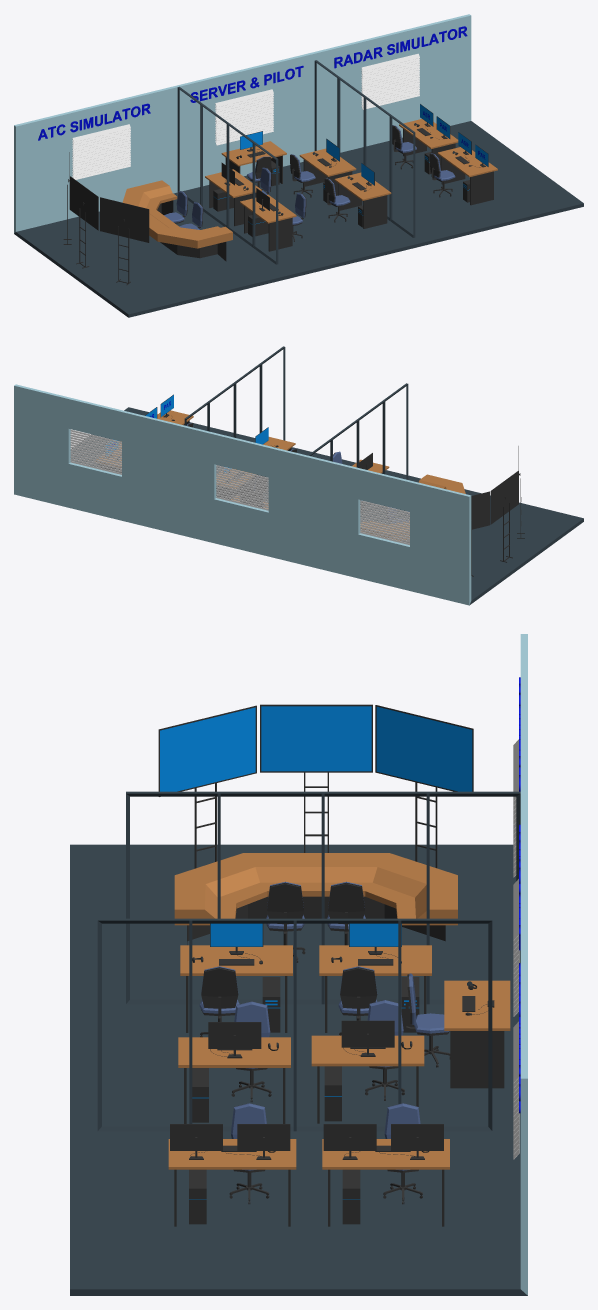
The model's file is room_layout.glb.
3 renders of one model, top to bottom at view 1: azimuth 30°, elevation 25°; view 2: azimuth 150°, elevation 25°; view 3: azimuth 270°, elevation 25°, orthographic. The views are drawn at different scales.
Parts seen in each view (by area): view 1: Room, Table (×5), Table.002, Table.001 (×2), Large TV.001 (×2), Window Rail, Window Rail.002, Window Rail.001, Wall Divider, Wall Divider.001, Plane.002 (×2), Chair (×2) (+4 smaller); view 2: Room, Window Rail.001, Window Rail.002, Window Rail, Large TV.001 (×2), Wall Divider.001, Wall Divider, Table.002; view 3: Room, Large TV.001 (×3), Table (×5), Table.002, Wall Divider.001, Chair (×5), Wall Divider, Monitor (×4), Table.001 (×2), Monitor.002 (×2), Monitor.001 (×2), CPU (×3) (+5 smaller).
Boxes of the visible parts, x1,y1,x2,y2 form: Room: (14,14,583,317); Table (×5): (205,141,391,251); Table.002: (122,180,232,261); Table.001 (×2): (399,119,497,205); Large TV.001 (×2): (70,176,149,242); Window Rail: (72,124,130,179); Window Rail.002: (361,53,419,109); Window Rail.001: (215,89,273,145); Wall Divider: (177,86,278,264); Wall Divider.001: (314,60,415,237); Plane.002 (×2): (392,125,455,197); Chair (×2): (290,154,350,222); Room: (14,384,583,605); Window Rail.001: (216,465,268,510); Window Rail.002: (70,429,121,474); Window Rail: (360,500,409,545); Large TV.001 (×2): (471,470,518,529); Wall Divider.001: (184,346,285,440); Wall Divider: (308,383,408,521); Table.002: (360,474,465,542); Room: (70,634,527,1295); Large TV.001 (×3): (158,704,473,796); Table (×5): (178,945,510,1123); Table.002: (174,853,457,944); Wall Divider.001: (97,918,492,1131); Chair (×5): (199,966,450,1102); Wall Divider: (126,791,520,1004); Monitor (×4): (208,923,401,1058); Table.001 (×2): (168,1139,449,1226); Monitor.002 (×2): (170,1124,376,1159); Monitor.001 (×2): (237,1124,443,1159); CPU (×3): (192,977,341,1122).
Bounding box in the file's own units: 7 × 1.6 × 3.05.
